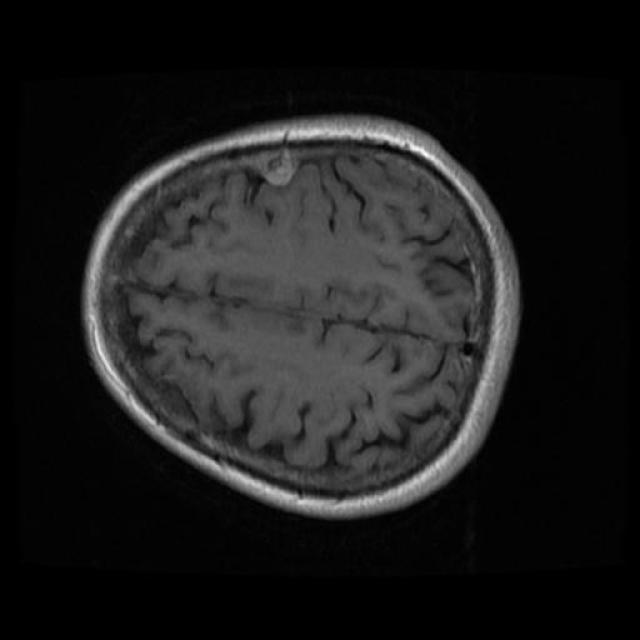Meningioma: (258, 148, 297, 185)
